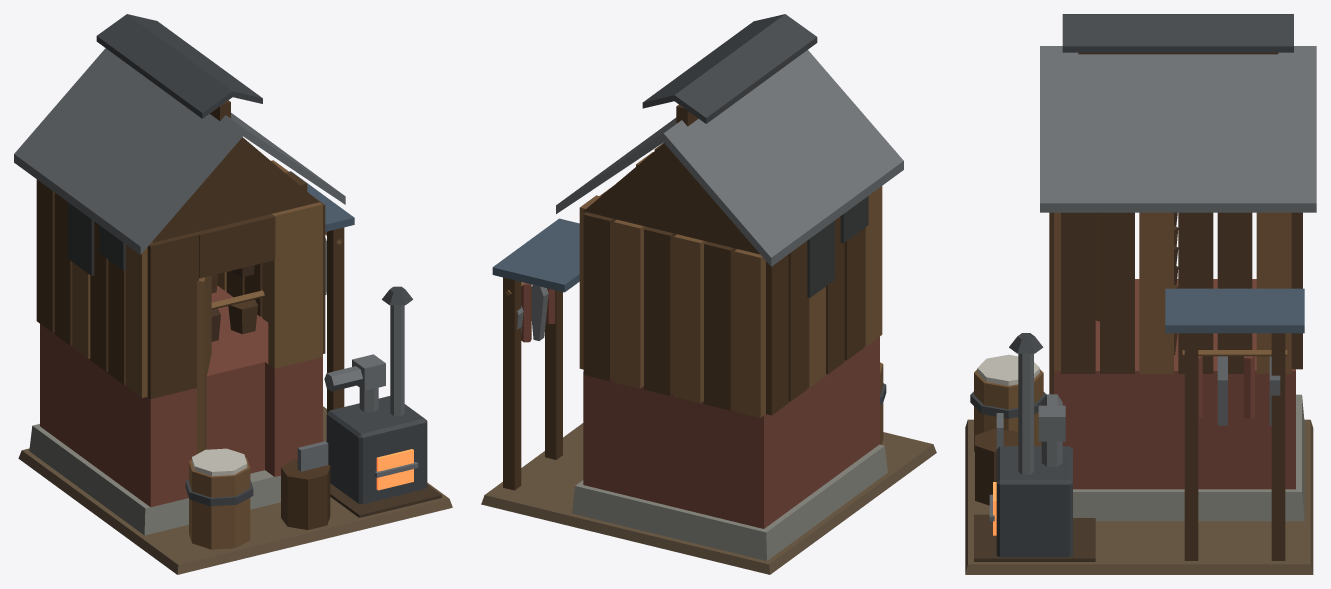
File: smokehouse_l2.glb
3 views of the same model, side by side, from view 1: azimuth 30°, elevation 25°; view 2: azimuth 150°, elevation 25°; view 3: azimuth 270°, elevation 25° (orthographic). The views are drawn at different scales.
Parts seen in each view (by area): view 1: smokehouse_l2_mesh; view 2: smokehouse_l2_mesh; view 3: smokehouse_l2_mesh.
Boxes of the visible parts, x1,y1,x2,y2 form: smokehouse_l2_mesh: (14,14,452,574); smokehouse_l2_mesh: (481,14,936,574); smokehouse_l2_mesh: (965,14,1316,574).
Size of the model in its own units: 2.02 by 2.96 by 2.02.
